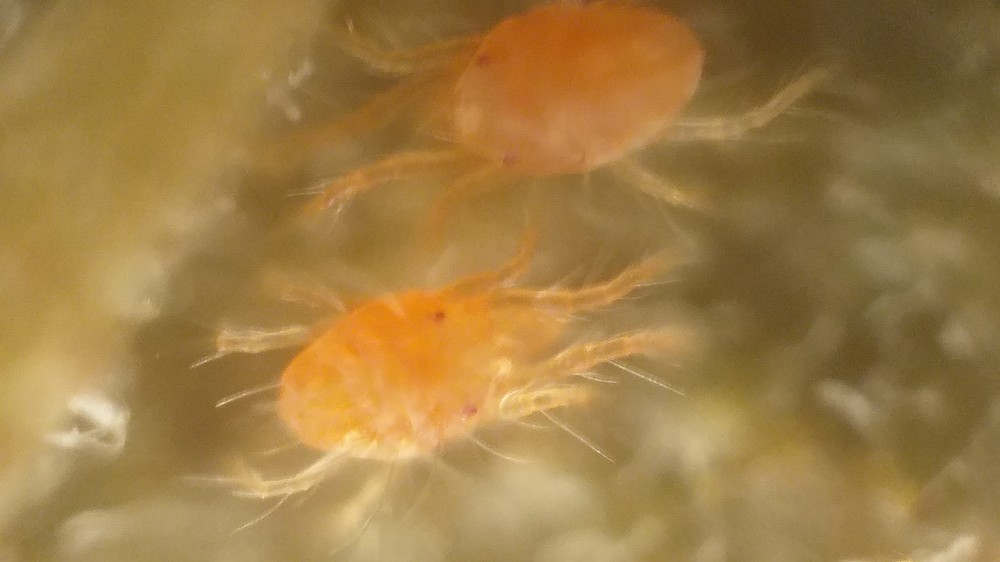Aracnido Rojo: (222, 246, 746, 523), (297, 11, 840, 235)
